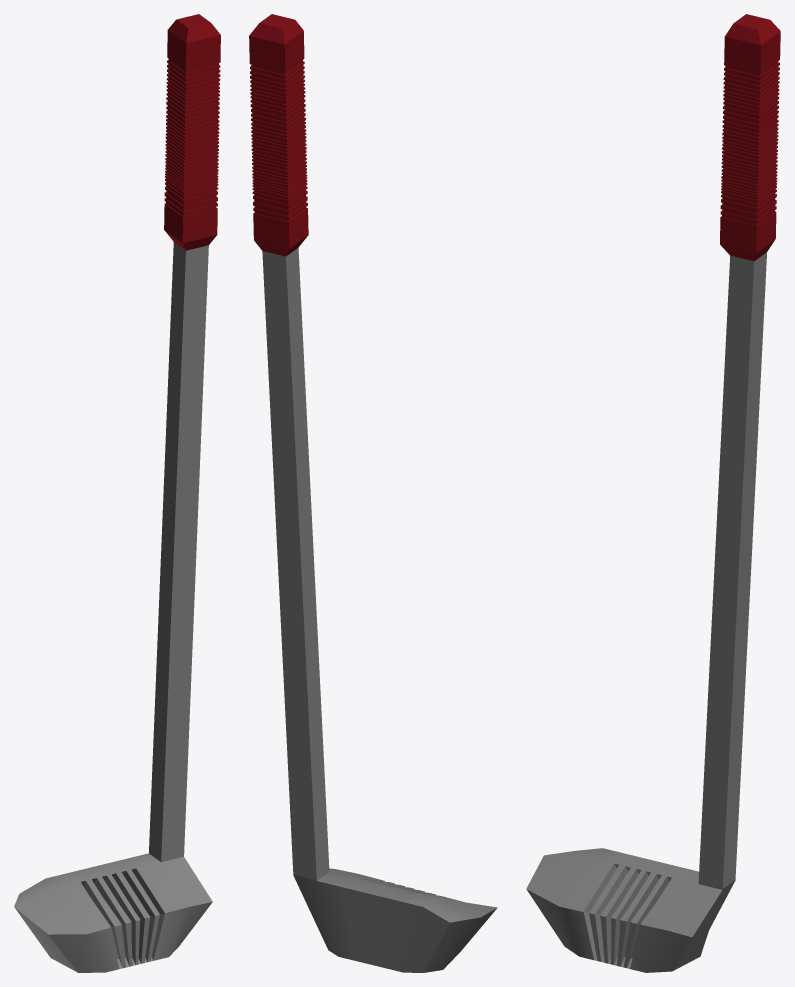
File: golf bat.obj
The picture shows the model from 3 angles, left to right: view 1: azimuth 30°, elevation 25°; view 2: azimuth 150°, elevation 25°; view 3: azimuth 330°, elevation 25°; orthographic projection. The views are drawn at different scales.
Parts seen in each view (by area): view 1: pCube1; view 2: pCube1; view 3: pCube1.
Boxes of the visible parts, left/top/right/bottom form: pCube1: left=14, top=14, right=220, bottom=972; pCube1: left=249, top=14, right=497, bottom=972; pCube1: left=526, top=14, right=780, bottom=972.
Size of the model in its own units: 3.16 by 13.01 by 1.25.
